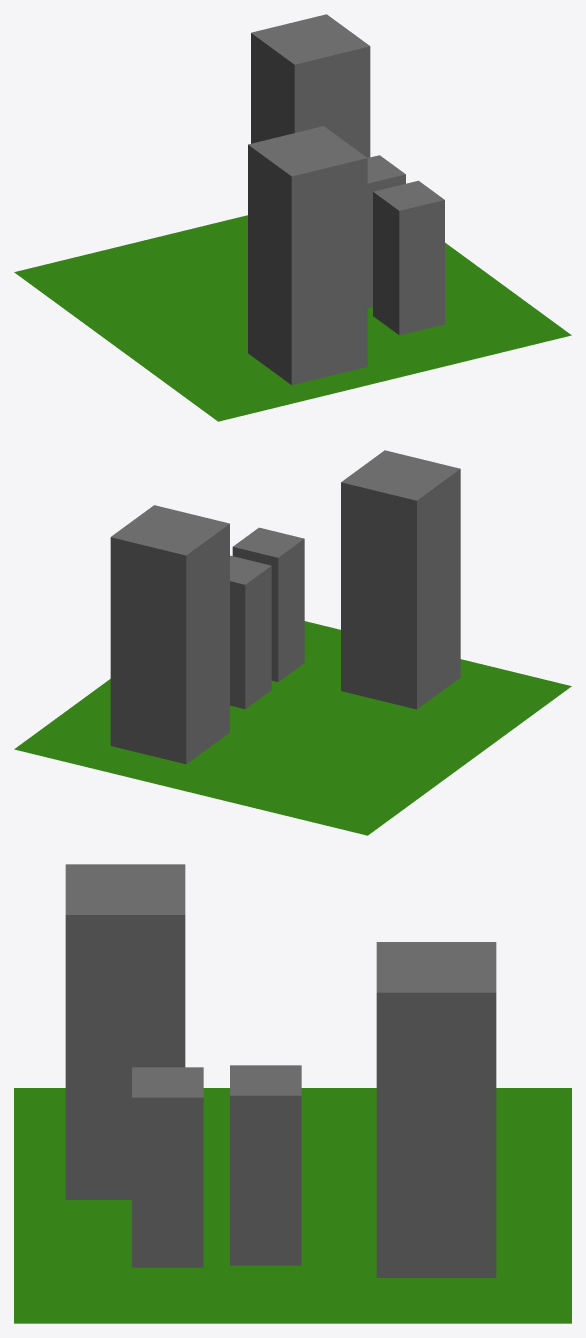
The model's file is protoBuildings.fbx.
3 renders of one model, top to bottom at view 1: azimuth 30°, elevation 25°; view 2: azimuth 150°, elevation 25°; view 3: azimuth 270°, elevation 25°, orthographic. The views are drawn at different scales.
Visible parts, largest first — view 1: Plane_1, Buidlings, Buidlings_4, Buidlings_3, Buidlings_2; view 2: Plane_1, Buidlings, Buidlings_4, Buidlings_2, Buidlings_3; view 3: Plane_1, Buidlings_4, Buidlings, Buidlings_2, Buidlings_3.
Part boxes in pixels (<box>): Plane_1: <box>14,215,571,421</box>; Buidlings: <box>248,126,367,385</box>; Buidlings_4: <box>251,14,370,157</box>; Buidlings_3: <box>373,180,444,335</box>; Buidlings_2: <box>367,155,405,307</box>; Plane_1: <box>14,621,571,835</box>; Buidlings: <box>341,450,460,709</box>; Buidlings_4: <box>110,505,229,764</box>; Buidlings_2: <box>230,555,271,709</box>; Buidlings_3: <box>232,527,304,681</box>; Plane_1: <box>14,1088,571,1323</box>; Buidlings_4: <box>376,942,496,1277</box>; Buidlings: <box>65,864,185,1199</box>; Buidlings_2: <box>230,1065,301,1265</box>; Buidlings_3: <box>132,1067,203,1267</box>.
Bounding box in the file's own units: 7000 × 4000 × 7000.
